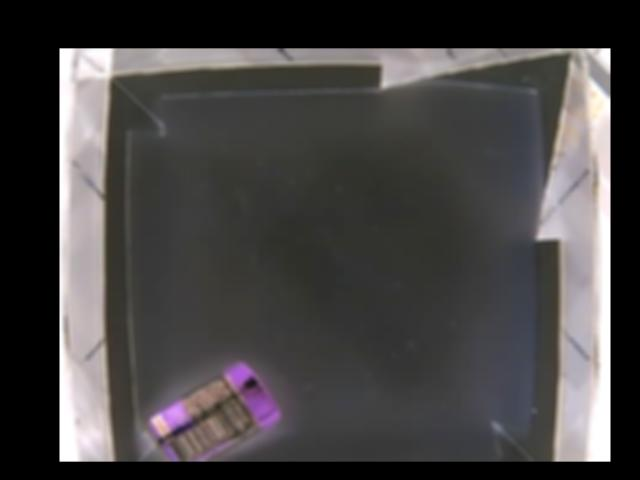Bottle: (145, 360, 280, 459)
